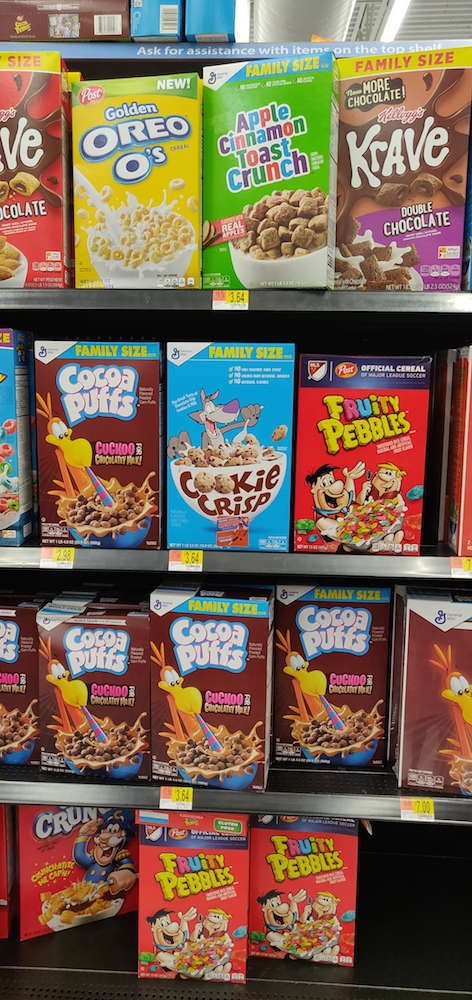Oreo Golden-568301011: (69, 83, 207, 290)
